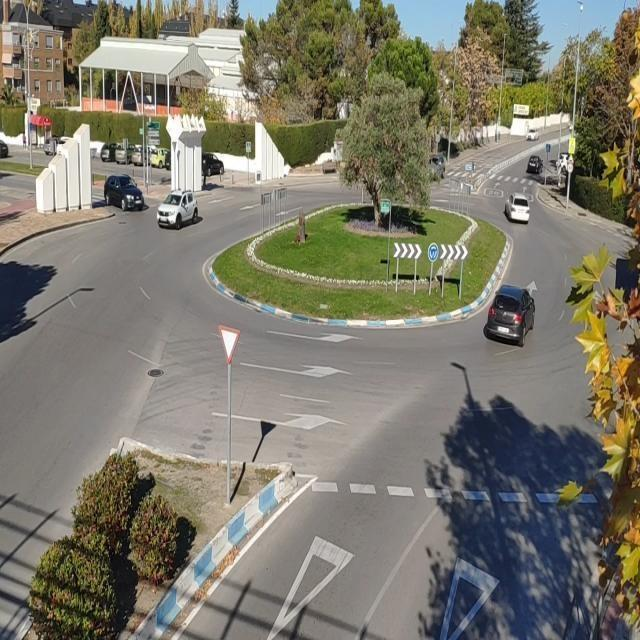Car: (485, 285, 536, 347), (158, 191, 198, 230), (104, 175, 144, 211), (505, 192, 530, 222), (202, 152, 224, 176), (528, 155, 544, 175), (527, 128, 538, 142)
